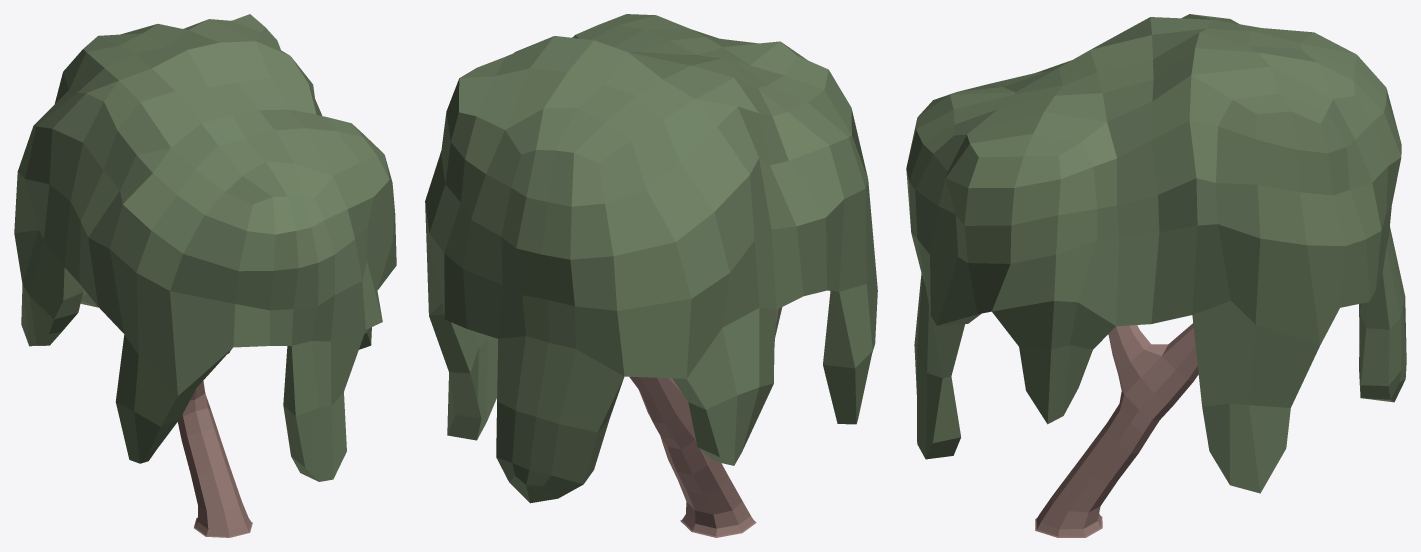
3 renders of one model, left to right at view 1: azimuth 30°, elevation 25°; view 2: azimuth 150°, elevation 25°; view 3: azimuth 270°, elevation 25°, orthographic. The views are drawn at different scales.
Parts seen in each view (by area): view 1: Visual; view 2: Visual; view 3: Visual.
Boxes of the visible parts, <box> form: Visual: <box>14,14,396,537</box>; Visual: <box>425,14,877,537</box>; Visual: <box>906,14,1406,537</box>.
Bounding box in the file's own units: 10.33 × 16 × 14.39.
